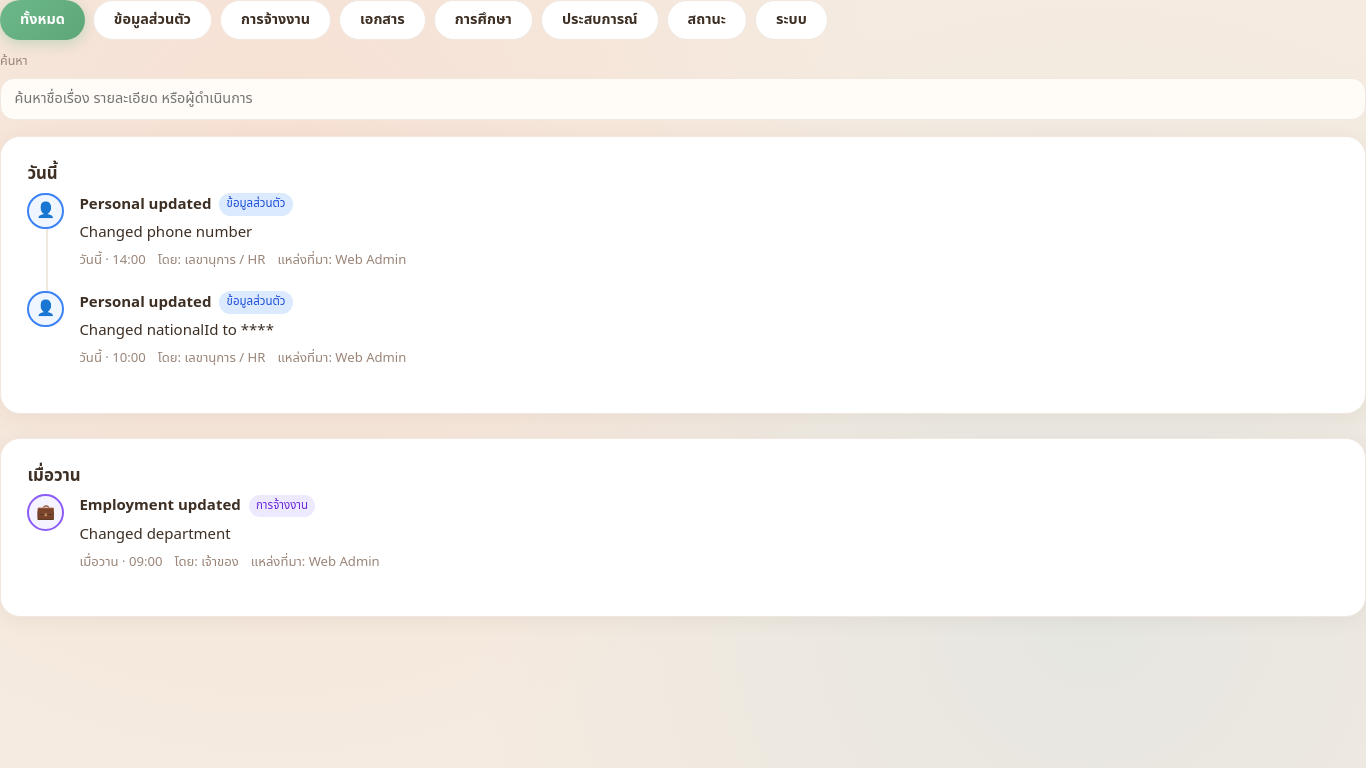
Test: EmployeeTimelineTab › shows empty state when filter has no matches
The image size is (1366, 768).
Expected: the list item with test id "timeline-item-ch-1" is shown, [27, 193, 406, 270]
Click the button with test id "timeline-filter-system" at (791, 20), box [755, 0, 828, 40]
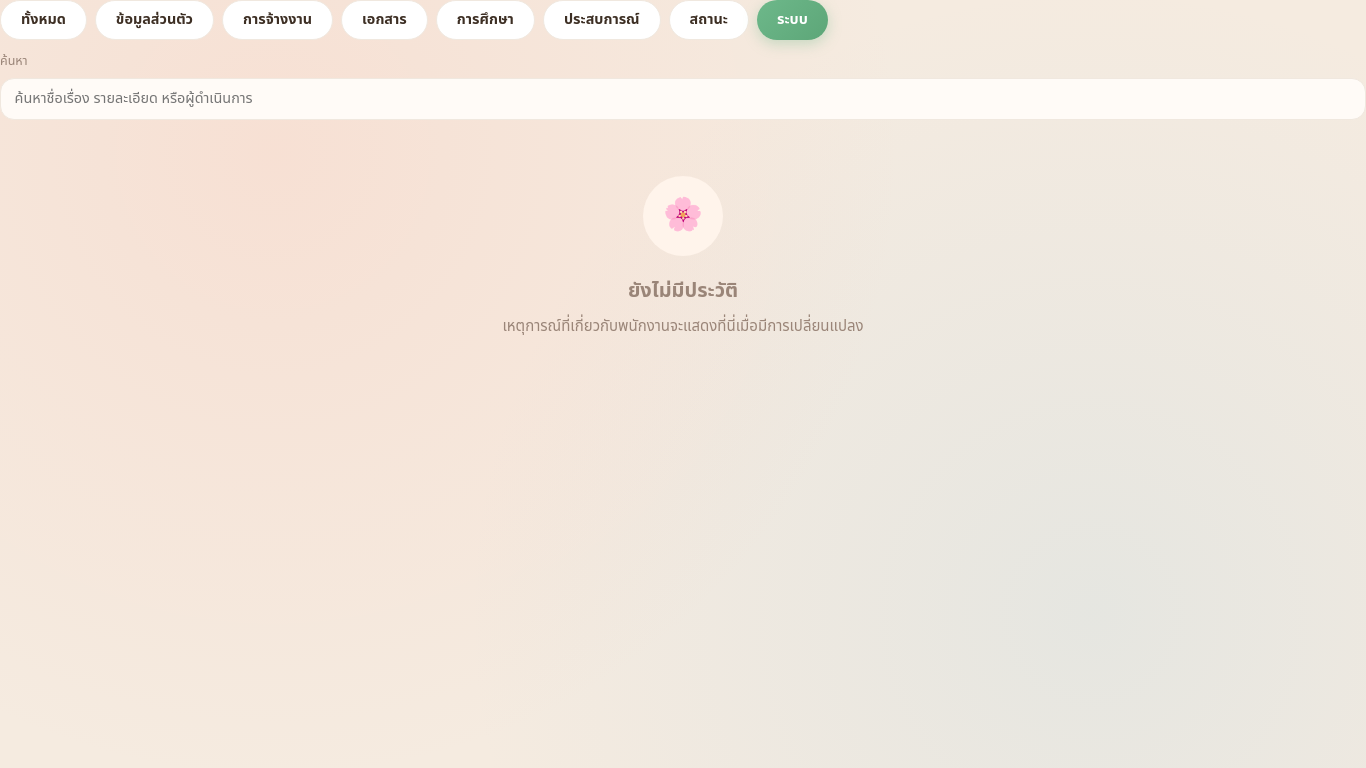
Expected: the heading "ยังไม่มีประวัติ" is shown, [628, 276, 738, 307]
